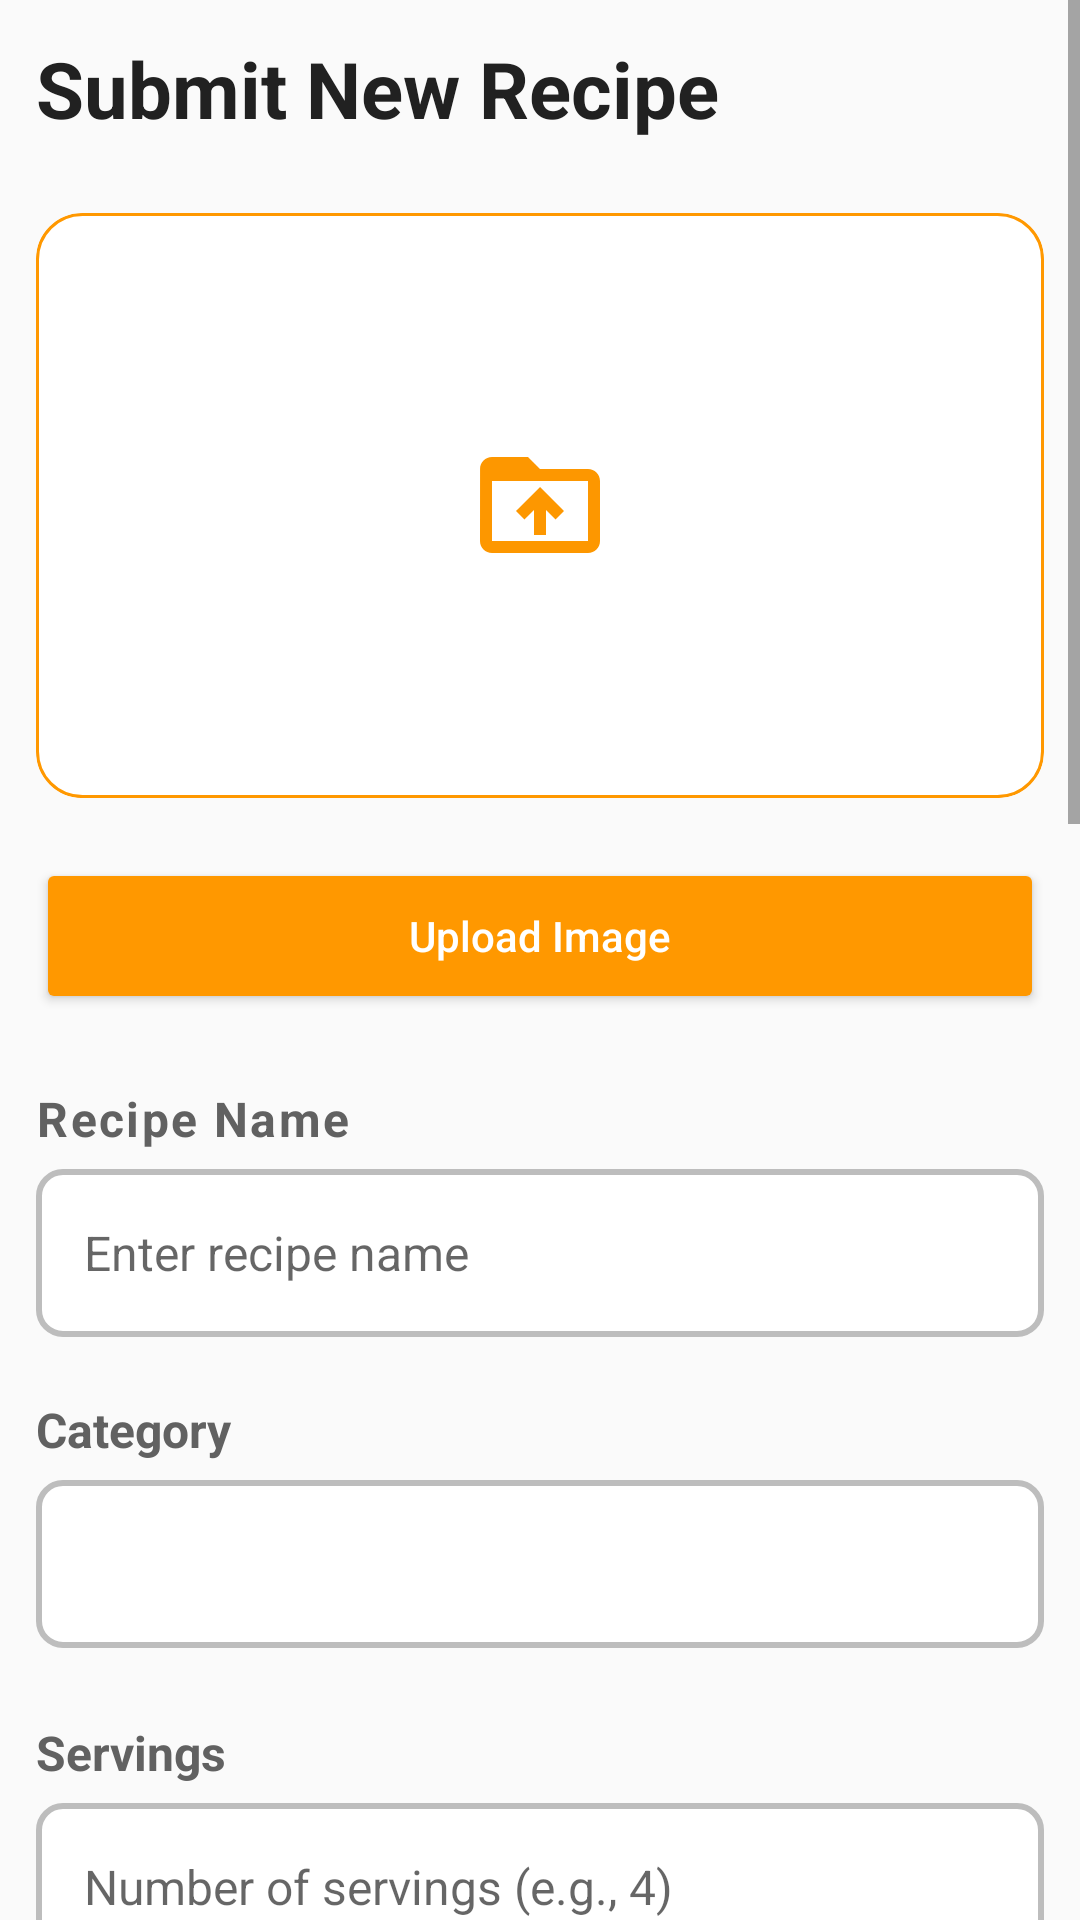

Icon click points for this 1080w x 1920h phone screenshot, format point (x, y):
putimage: point (540, 505)
